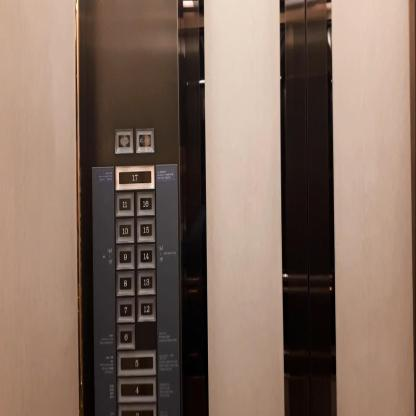10: (114, 216, 135, 244)
11: (114, 190, 135, 217)
12: (136, 295, 156, 323)
13: (136, 268, 156, 296)
14: (135, 242, 156, 270)
15: (136, 216, 155, 243)
16: (136, 190, 155, 216)
17: (114, 164, 155, 191)
4: (116, 376, 156, 403)
5: (116, 350, 157, 376)
6: (115, 323, 135, 350)
7: (115, 296, 136, 323)
8: (115, 270, 136, 297)
9: (114, 243, 135, 270)
blur: (113, 126, 134, 155)
text_close door: (135, 126, 155, 154)
